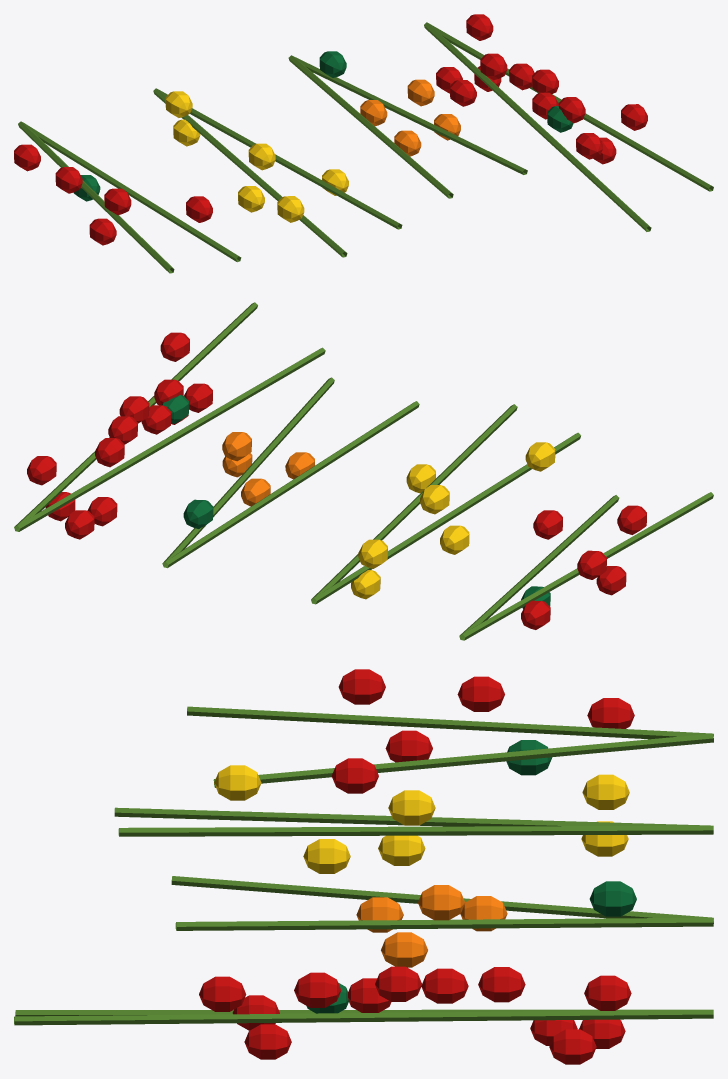
The model's file is r9c2_stems.obj.
3 views of the same model, one above another, from view 1: azimuth 30°, elevation 25°; view 2: azimuth 150°, elevation 25°; view 3: azimuth 270°, elevation 25° (orthographic). The views are drawn at different scales.
Parts seen in each view (by area): view 1: r9c2_stems; view 2: r9c2_stems; view 3: r9c2_stems.
Part boxes in pixels (bbox=[...]): r9c2_stems: bbox=[14, 14, 713, 273]; r9c2_stems: bbox=[14, 302, 713, 640]; r9c2_stems: bbox=[14, 669, 713, 1064].
Bounding box in the file's own units: 1.67 × 0.2393 × 1.47.
